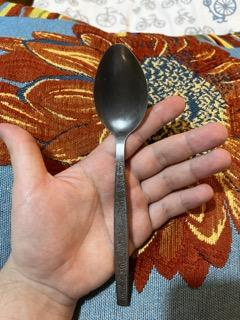spoon: (93, 43, 149, 308)
